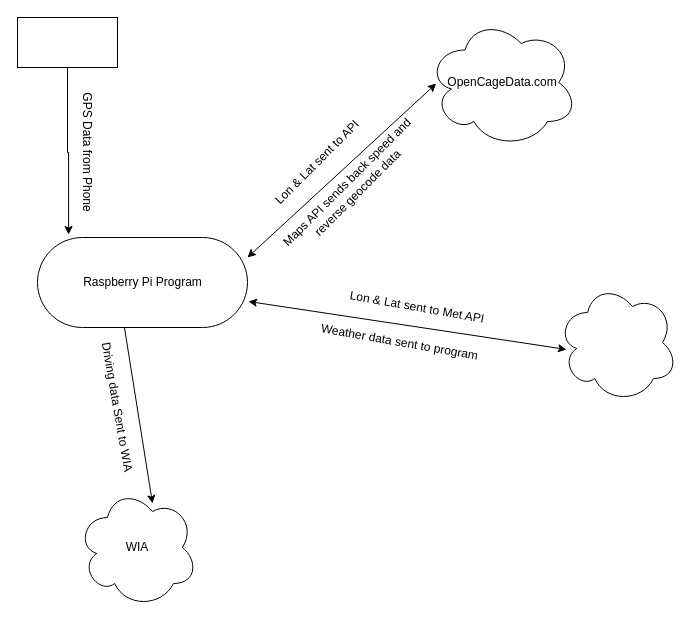
Some shapes in this 695 by 625 pixel diagram are drawn without their labels. Each missing label, with the centre of its shape:
Blynk App: the point at 67,42
Met Weather API: the point at 617,342
